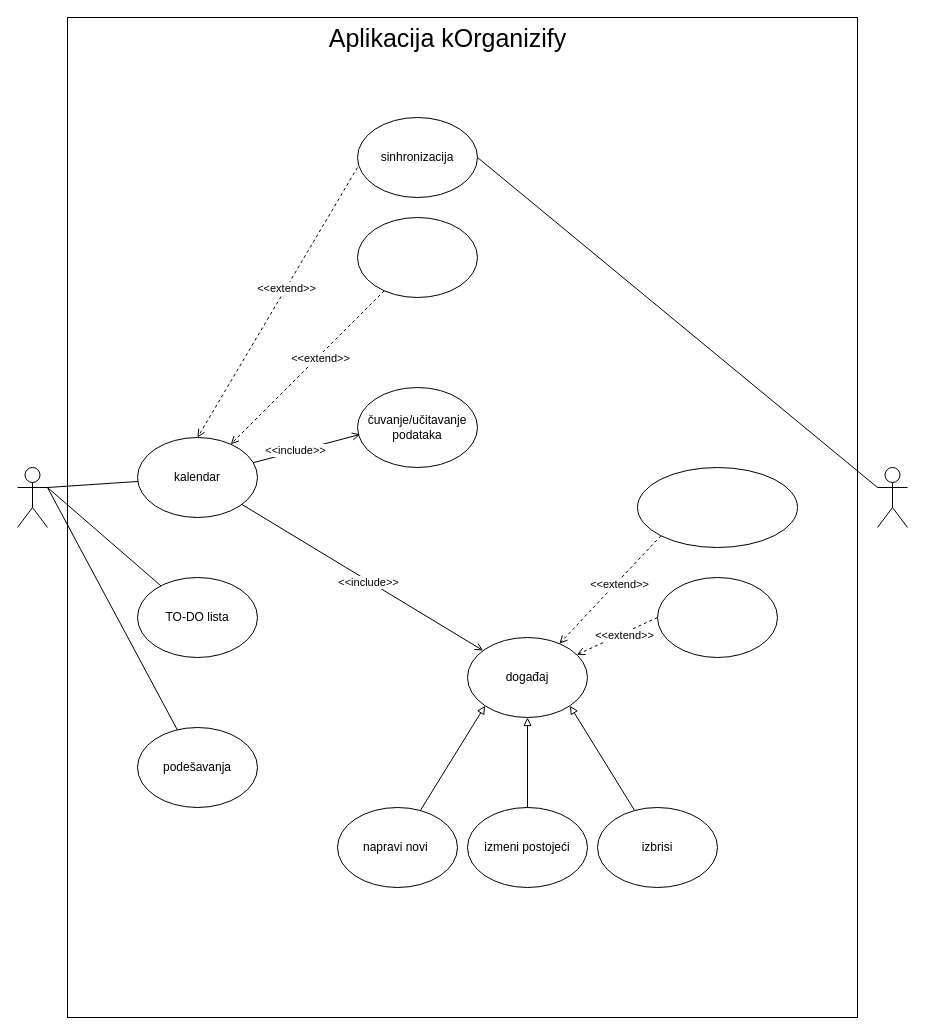
Some shapes in this 927 by 1035 pixel diagram are drawn without their labels. The box of each missing label's shape, as (x1, y1, x2, y2) in pixels:
Friend: (876, 466, 908, 528)
pametni plan: (356, 216, 478, 298)
podsetnik: (656, 576, 778, 658)
prioritizacija/kategorizacija: (636, 466, 798, 548)
User: (16, 466, 48, 528)
